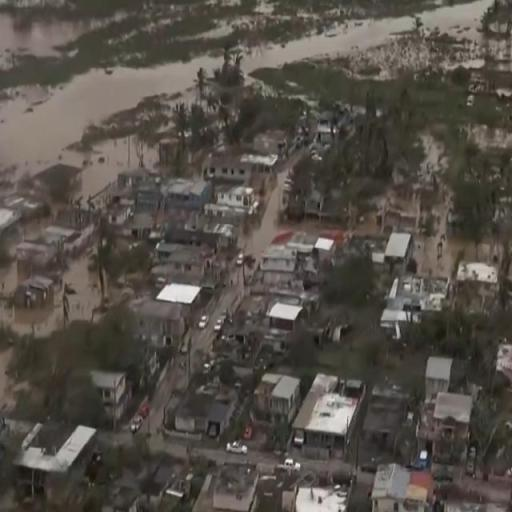flood: (0, 50, 225, 196), (235, 0, 490, 72), (256, 152, 391, 264), (0, 249, 100, 337), (410, 184, 498, 281), (0, 11, 107, 68), (193, 14, 249, 37), (468, 124, 512, 152), (0, 346, 16, 412), (426, 134, 449, 176), (0, 262, 15, 296)
house: (292, 379, 366, 468), (18, 420, 100, 500), (383, 270, 453, 338), (174, 379, 230, 436), (369, 463, 432, 512), (456, 256, 504, 305), (257, 374, 301, 426), (142, 295, 183, 349), (258, 244, 299, 288), (206, 148, 254, 180), (267, 296, 302, 338), (214, 185, 256, 217), (169, 249, 207, 280), (382, 228, 410, 270)
